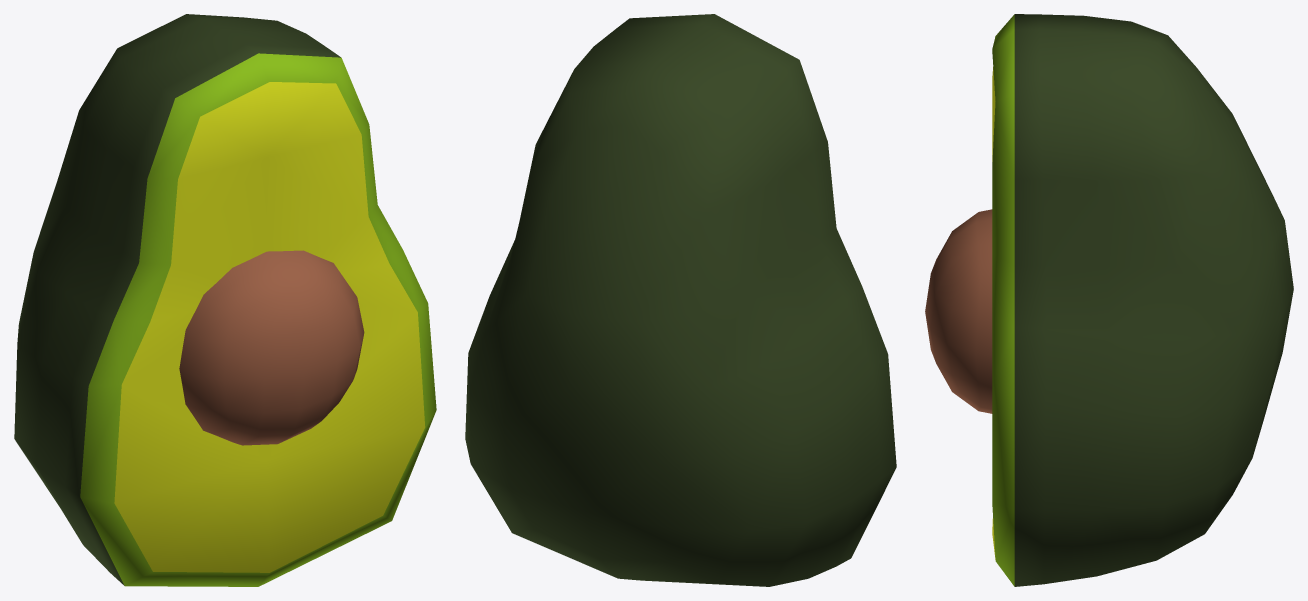
The model's file is FoodIngredient_Avocado.fbx.
3 views of the same model, side by side, from view 1: azimuth 30°, elevation 25°; view 2: azimuth 150°, elevation 25°; view 3: azimuth 270°, elevation 25° (orthographic). The views are drawn at different scales.
Visible parts, largest first — view 1: FoodIngredient_Avocado; view 2: FoodIngredient_Avocado; view 3: FoodIngredient_Avocado.
Part boxes in pixels (x1=…): FoodIngredient_Avocado: x1=14, y1=14, x2=436, y2=586; FoodIngredient_Avocado: x1=465, y1=14, x2=896, y2=586; FoodIngredient_Avocado: x1=925, y1=14, x2=1293, y2=586.
Size of the model in its own units: 46.37 by 66.33 by 42.16.
